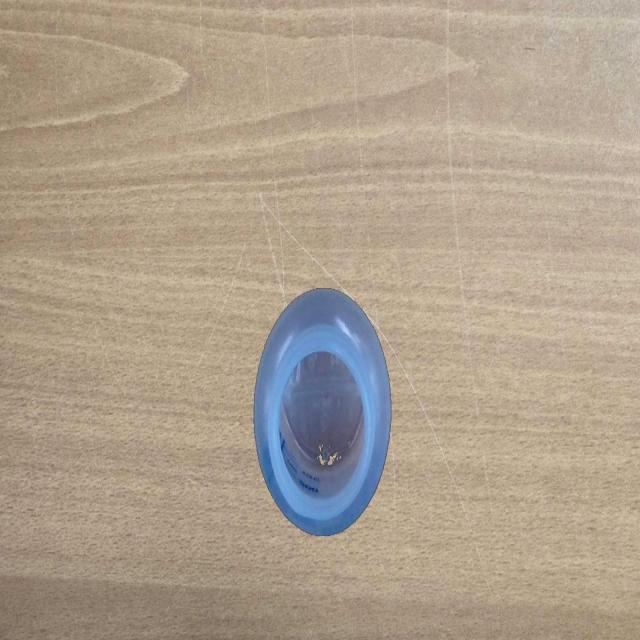bottle: (252, 282, 392, 540)
